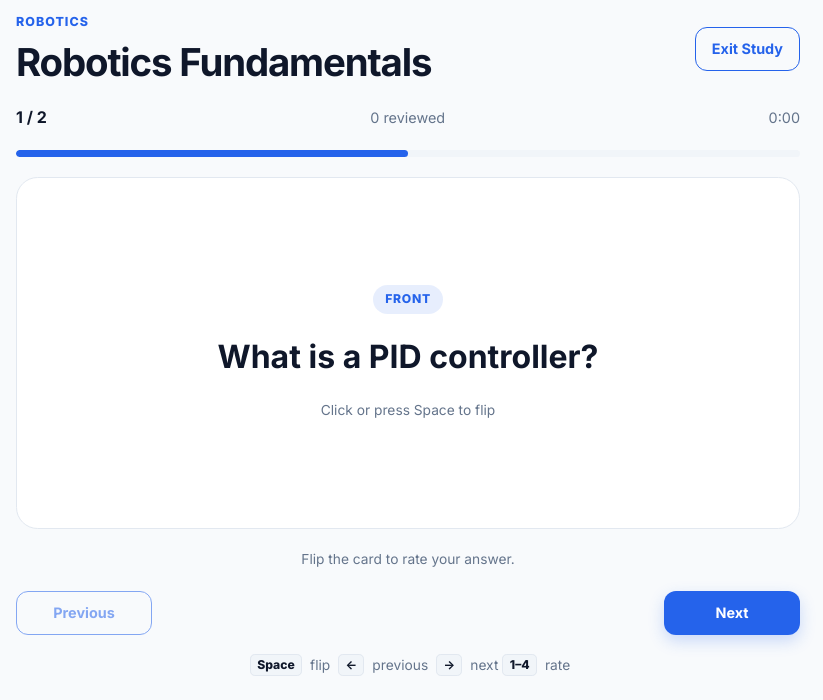
Test: guards a rating from duplicate writes
The width and height of the screenshot is (823, 700).
Click the button with aria-label "Card front".
click(63, 353)  # box [16,177,800,529]
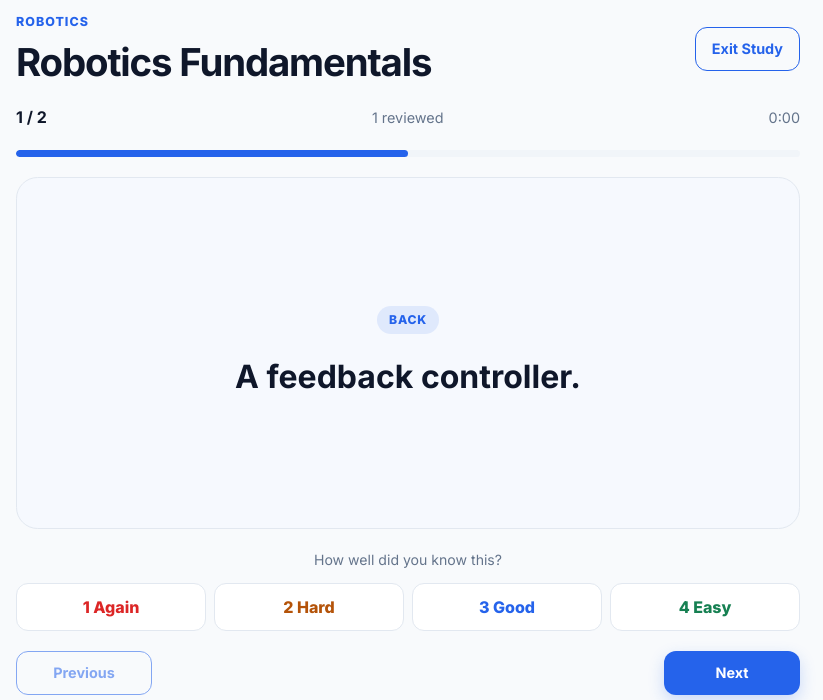
Click the button "3 Good".
click(507, 607)  # box [412,583,602,631]
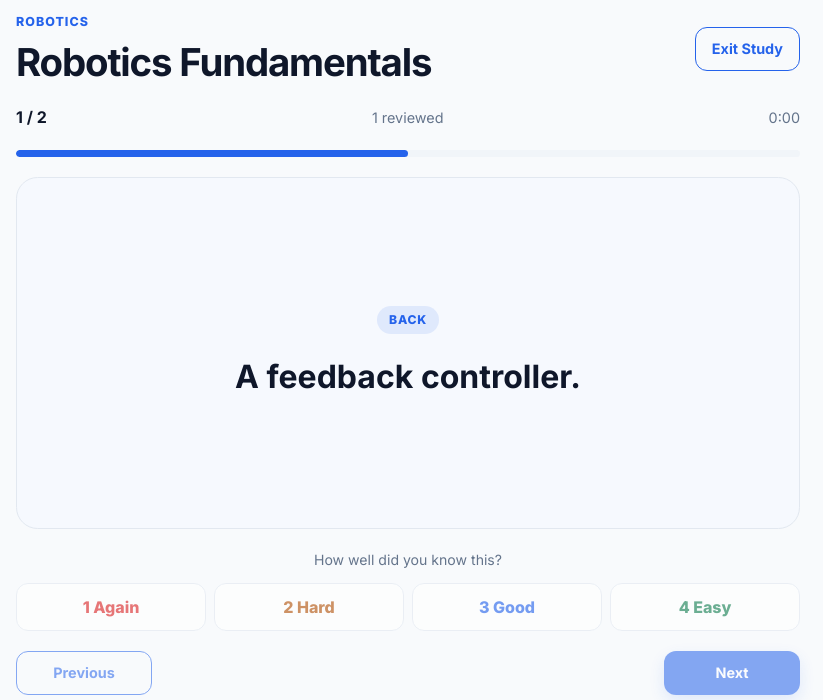
Click the button "3 Good".
click(507, 607)  # box [412,583,602,631]
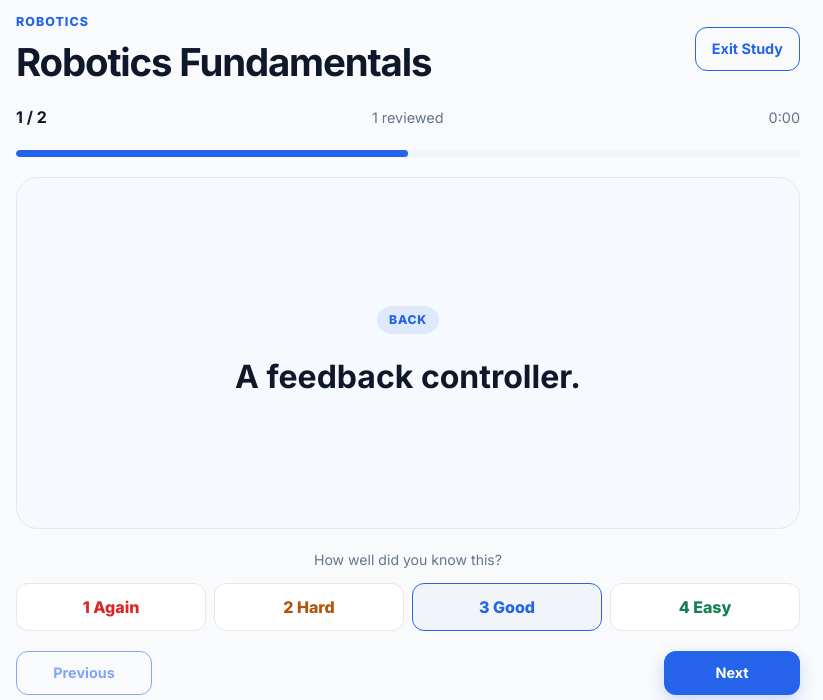
Expected: the button "3 Good" is enabled, [412,583,602,631]
